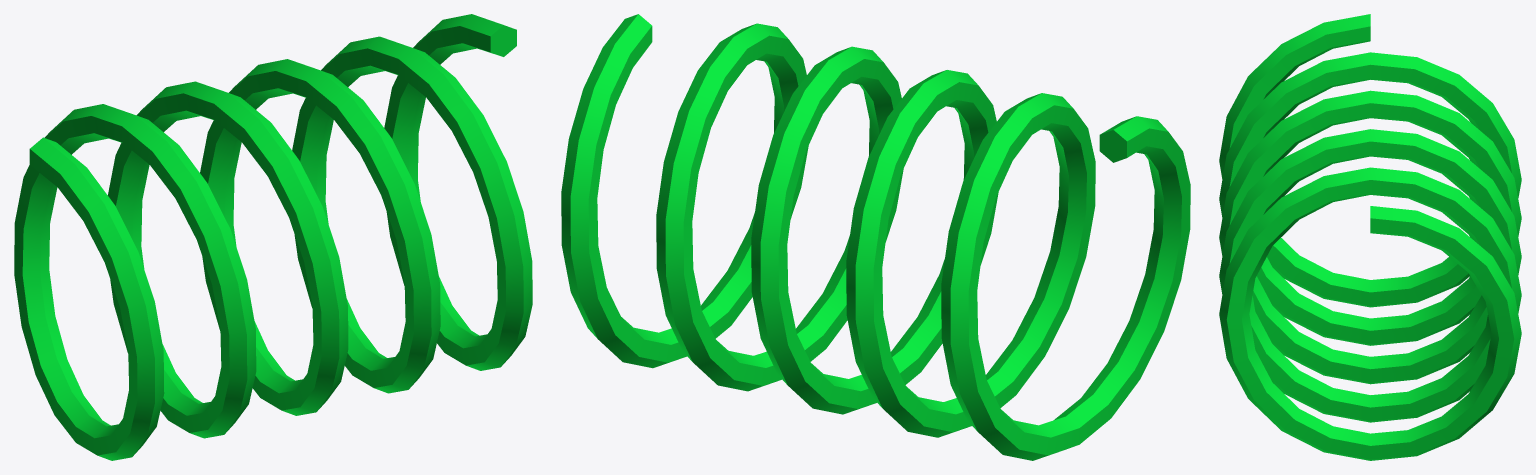
Rendered from Spring.fbx.
3 renders of one model, left to right at view 1: azimuth 30°, elevation 25°; view 2: azimuth 150°, elevation 25°; view 3: azimuth 270°, elevation 25°, orthographic. The views are drawn at different scales.
Visible parts, largest first — view 1: Spring; view 2: Spring; view 3: Spring.
Part boxes in pixels (x1,y1,x2,y2): Spring: (14, 14, 532, 460); Spring: (561, 14, 1190, 460); Spring: (1219, 14, 1521, 460).
Bounding box in the file's own units: 2.55 × 1.61 × 1.61.
